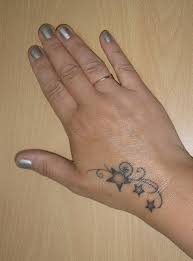hand: (11, 10, 174, 213)
